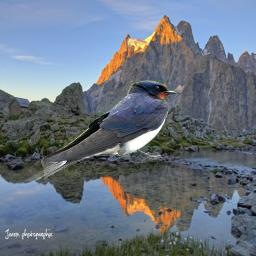Swallow: (25, 80, 178, 186)
